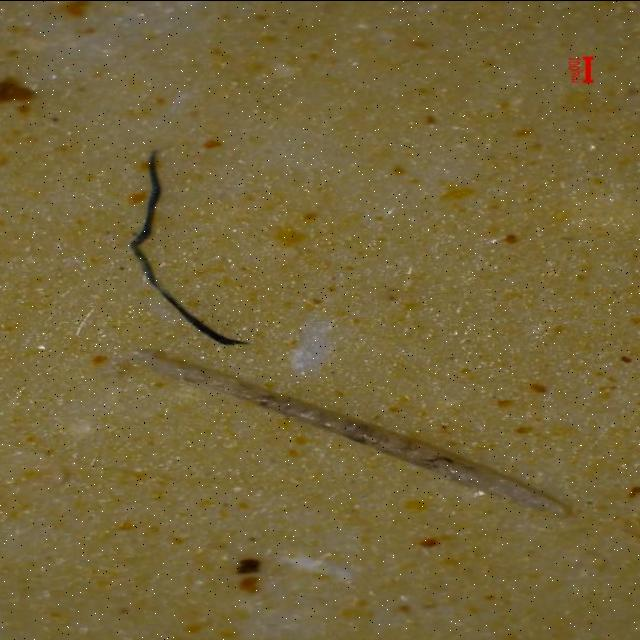Fibre: (128, 138, 262, 362)
